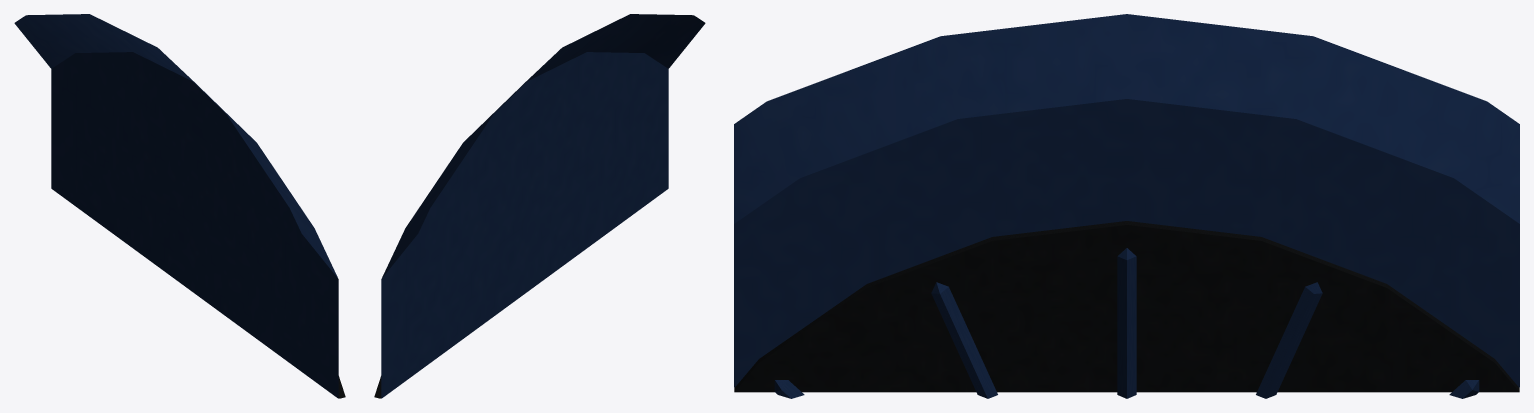
The model's file is cell_63.obj.
3 renders of one model, left to right at view 1: azimuth 30°, elevation 25°; view 2: azimuth 150°, elevation 25°; view 3: azimuth 270°, elevation 25°, orthographic. The views are drawn at different scales.
Visible parts, largest first — view 1: cell_63; view 2: cell_63; view 3: cell_63.
Part boxes in pixels (box(x1,y1,x2,y2)): cell_63: box(14, 14, 345, 398); cell_63: box(374, 14, 705, 398); cell_63: box(734, 14, 1519, 398).
Size of the model in its own units: 0.1086 by 0.4899 by 1.
